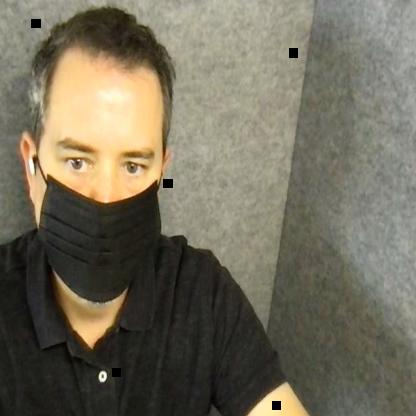mask: (20, 6, 174, 306)
